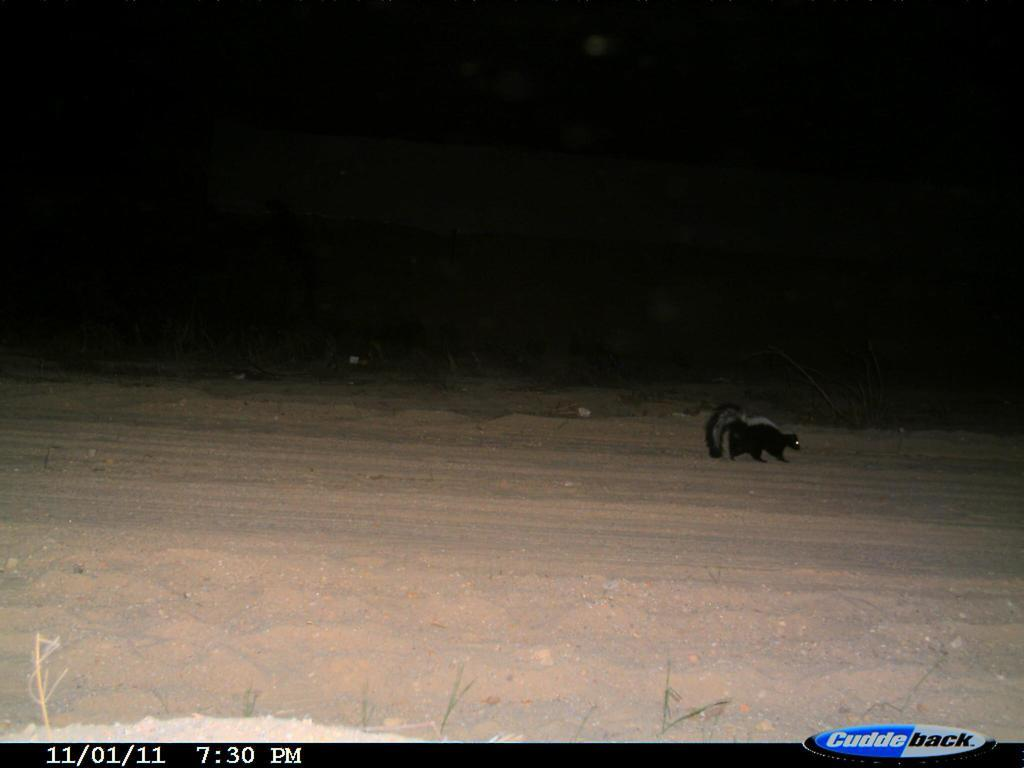skunk: (688, 393, 817, 500)
